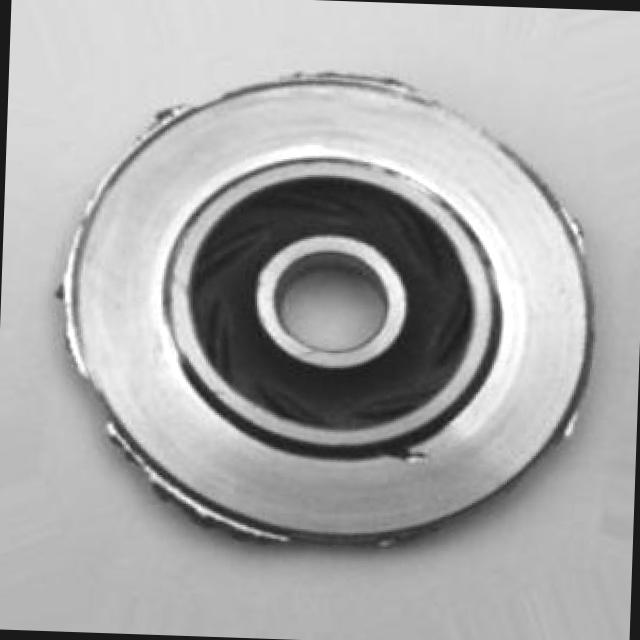Defect: (308, 65, 466, 99)
